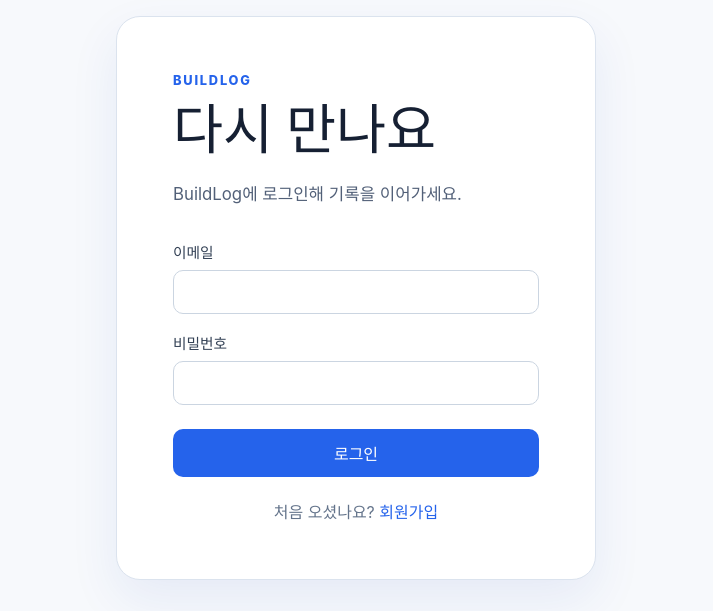
it: authentication screens › moves to the home screen after a successful login
The width and height of the screenshot is (713, 611).
Step 1. Type "person@example.com" into the field labelled "이메일" → (356, 292), box left=173, top=270, right=539, bottom=314
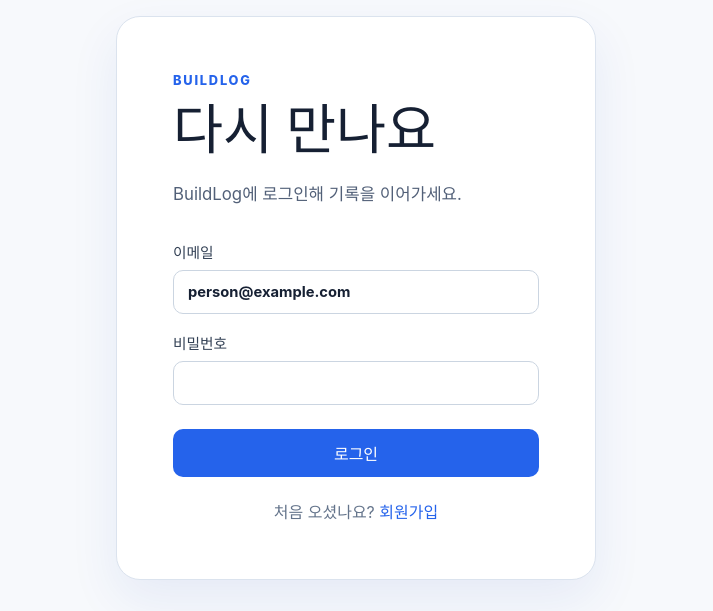
Step 2. Type "password123" into the password field labelled "비밀번호" → (356, 383), box left=173, top=361, right=539, bottom=405
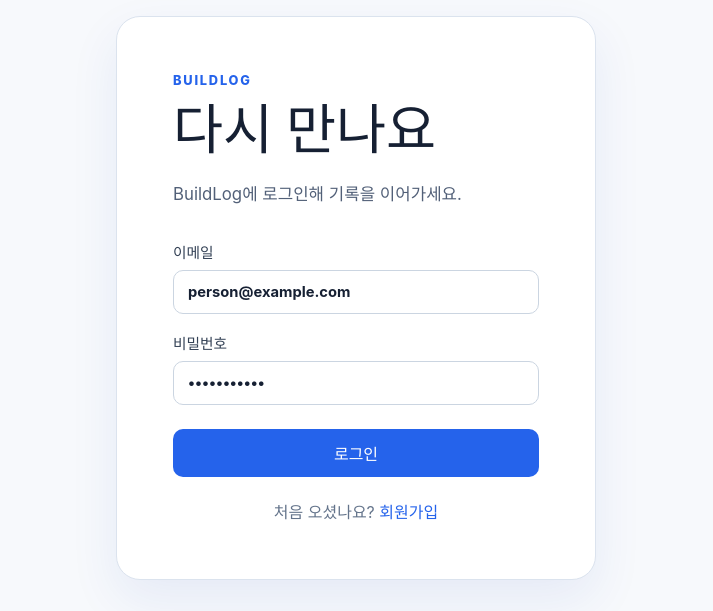
Step 3. Click the button "로그인" → (356, 453), box left=173, top=429, right=539, bottom=477
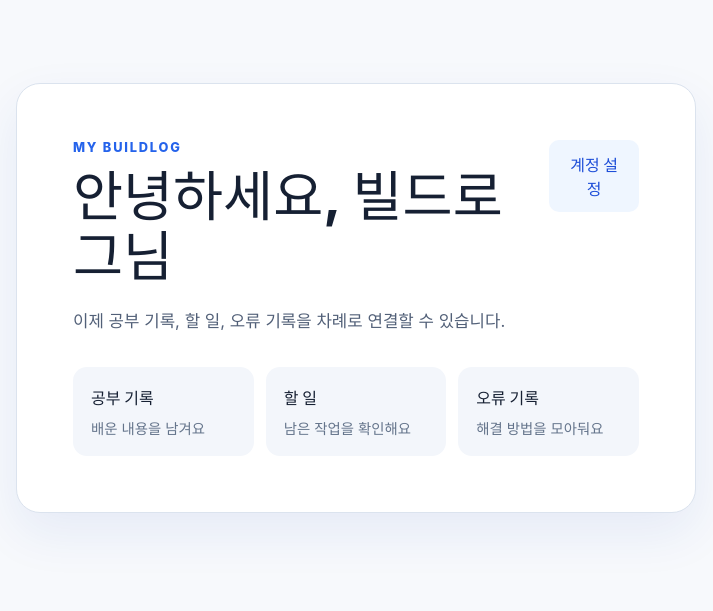
Result: the heading "안녕하세요, 빌드로그님" is shown at left=73, top=167, right=529, bottom=287
Result: the button "계정 설정" is shown at left=549, top=140, right=639, bottom=212
